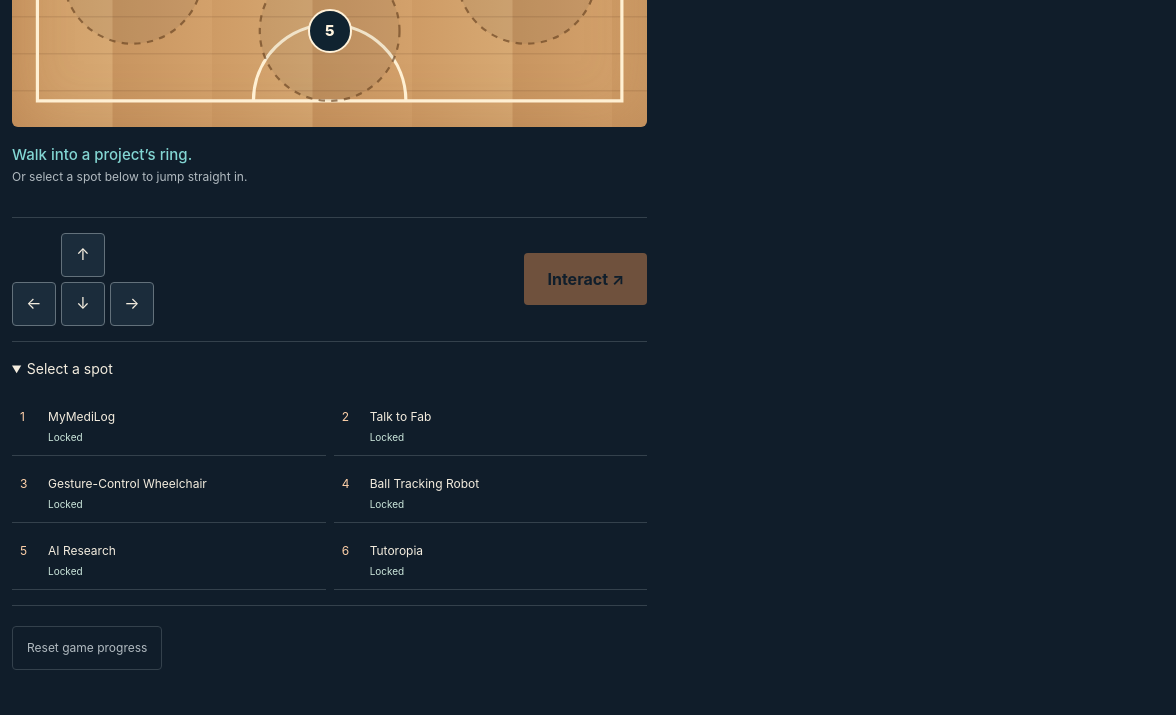
Test: shooting UI › a miss stays locked and permits retry without duplicate unlocks
The image size is (1176, 715).
(page scrolled)
Click the button "5 AI Research Locked": click(82, 551) [12,531,326,590]
(page scrolled)
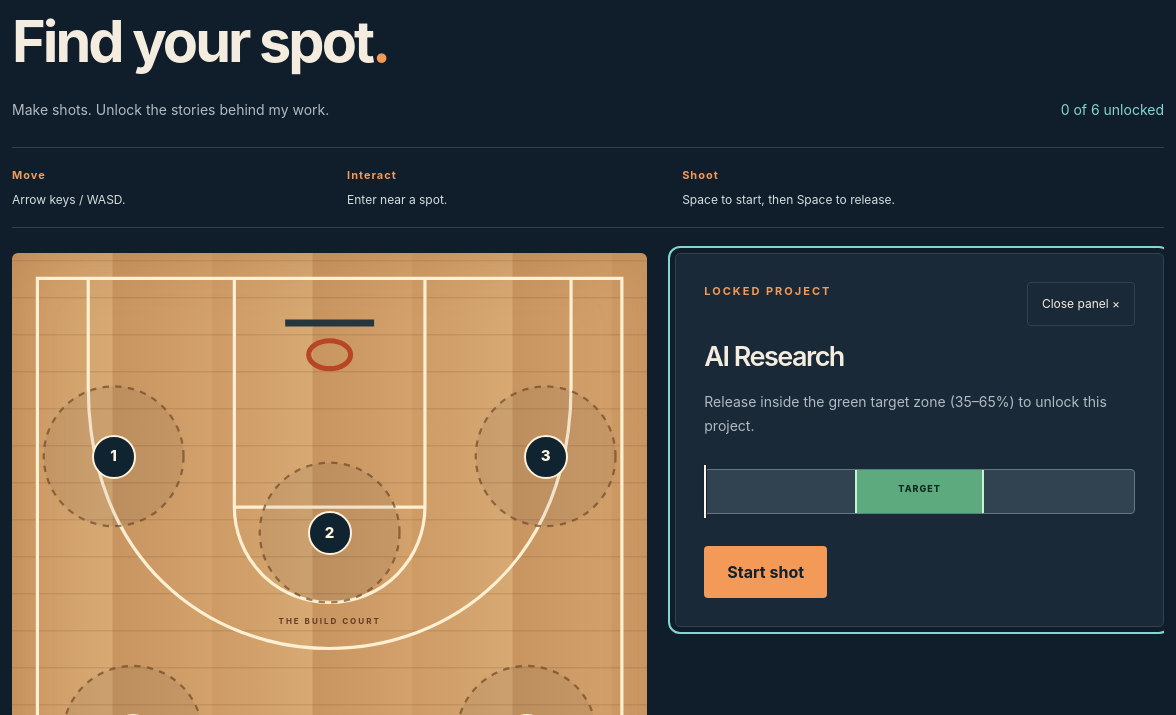
Click the button "Start shot": click(766, 572) [704,546,827,598]
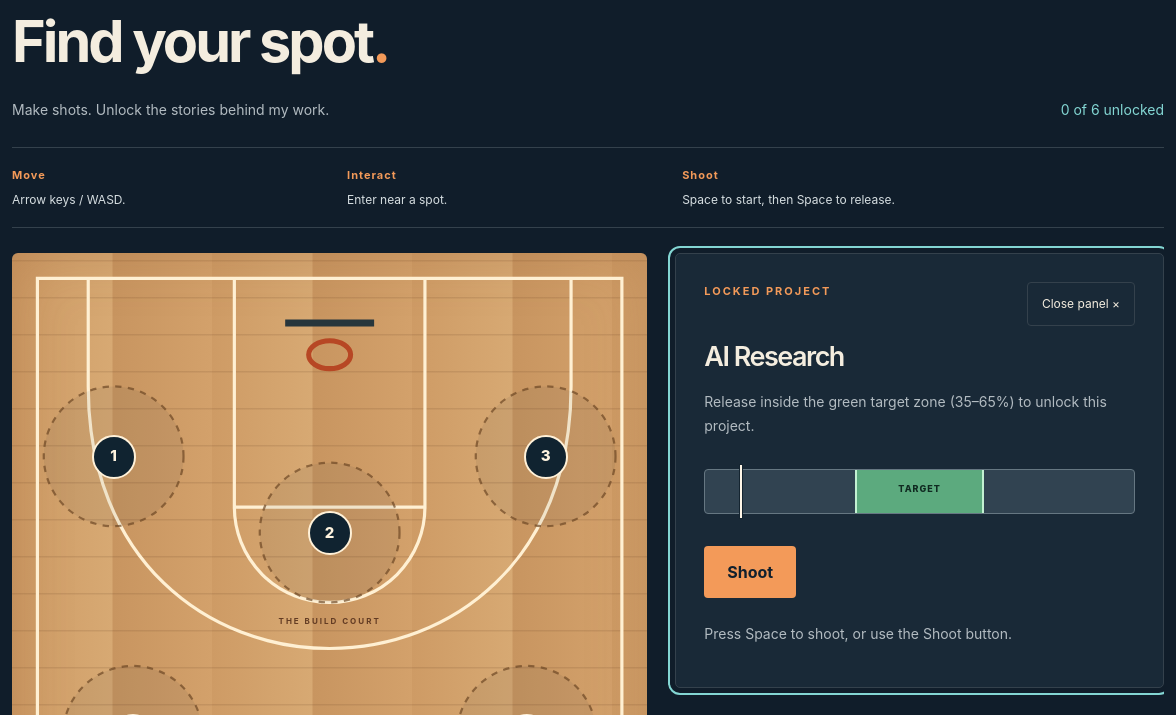
Click the button "Shoot": click(750, 572) [704,546,796,598]
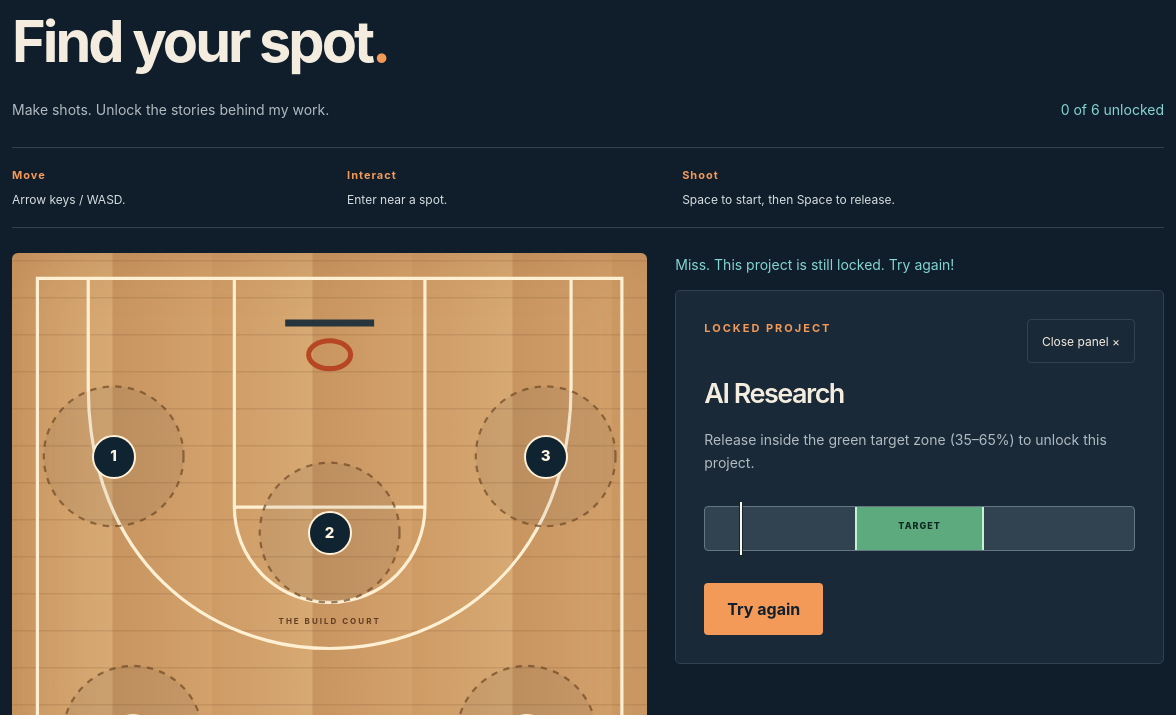
Check: the text "0 of 6 unlocked" is shown, box [1061,98,1164,121]
Check: the text "Miss. This project is still locked. Try again!" is shown, box [675,256,954,273]
Click the button "Try again": click(764, 609) [704,583,823,635]
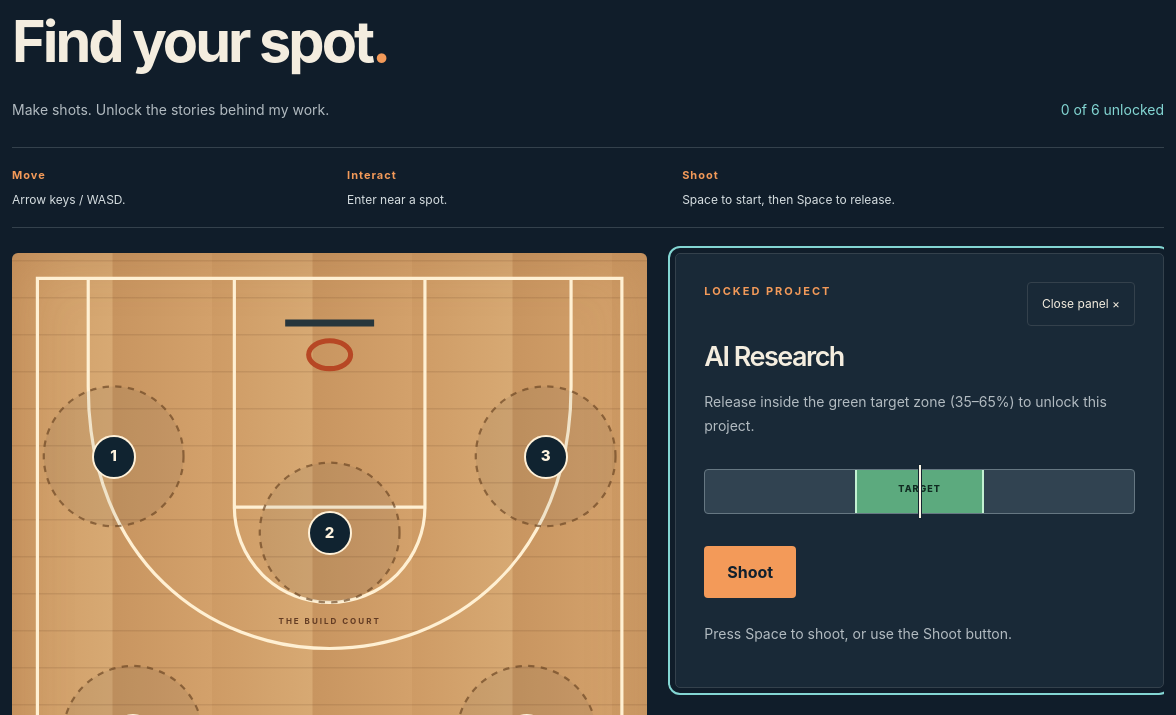
Double-click the button "Shoot": (750, 572) [704,546,796,598]
(page scrolled)
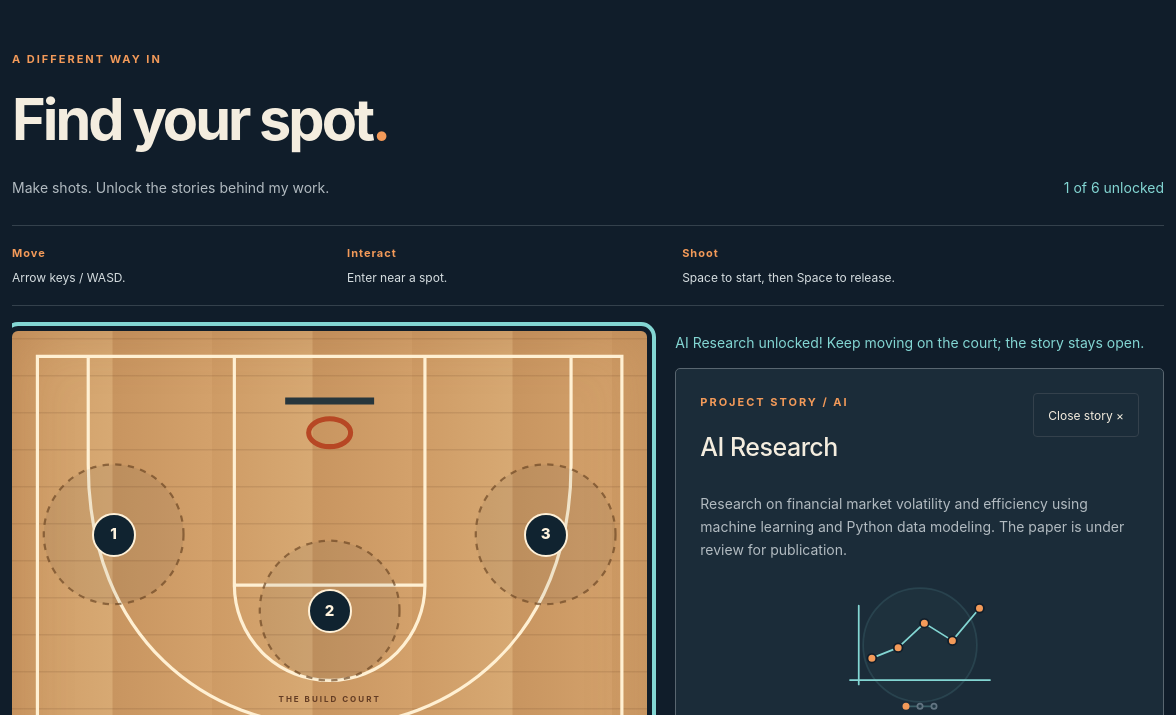
Check: the text "1 of 6 unlocked" is shown, box [1064,176,1164,199]
